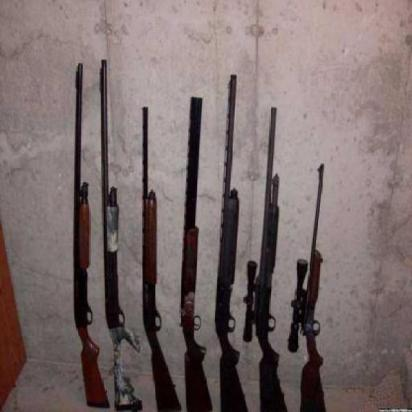Gun: (62, 60, 103, 412), (136, 104, 178, 412), (180, 94, 214, 412)
